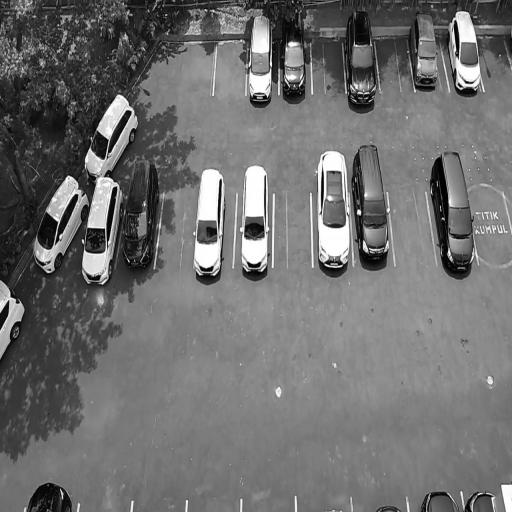Car: (22, 171, 94, 290), (427, 143, 479, 279), (75, 89, 145, 187), (75, 175, 128, 292), (353, 135, 396, 274), (117, 155, 164, 278), (313, 144, 354, 283), (190, 165, 234, 284), (237, 159, 273, 275), (343, 5, 382, 110), (446, 4, 486, 105), (404, 9, 445, 94), (246, 10, 277, 112), (281, 11, 311, 109), (0, 272, 30, 367), (20, 481, 75, 512), (418, 487, 463, 512), (465, 489, 498, 512)
Space Available: (389, 184, 435, 264), (155, 188, 196, 276), (274, 182, 311, 276), (468, 185, 512, 264), (376, 35, 414, 94), (214, 39, 248, 101), (477, 33, 512, 92), (311, 38, 345, 98), (78, 493, 132, 512)
